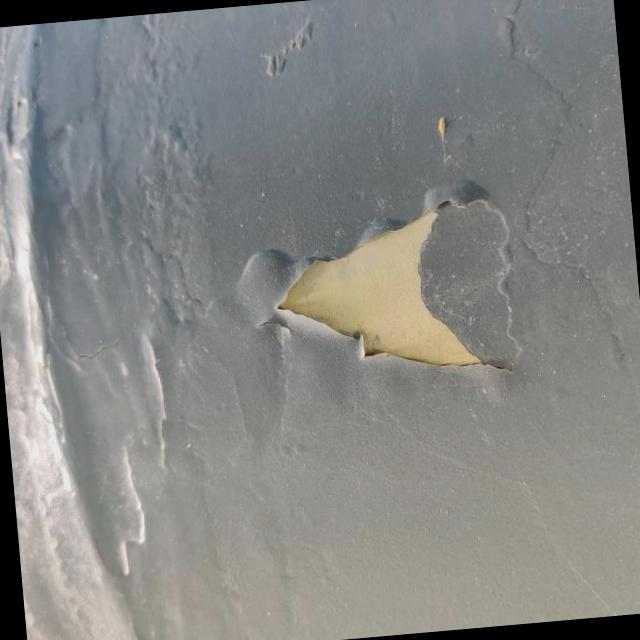paint-off: (245, 148, 536, 412)
